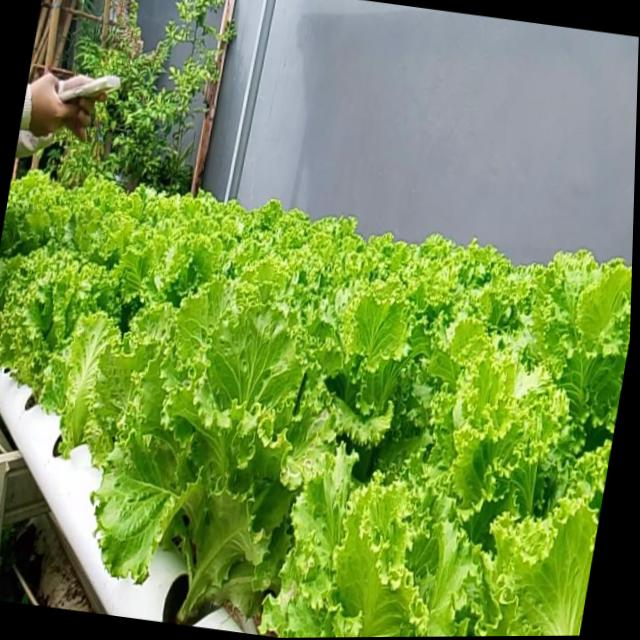Mature: (0, 180, 632, 638), (126, 315, 331, 609), (0, 223, 141, 440)
